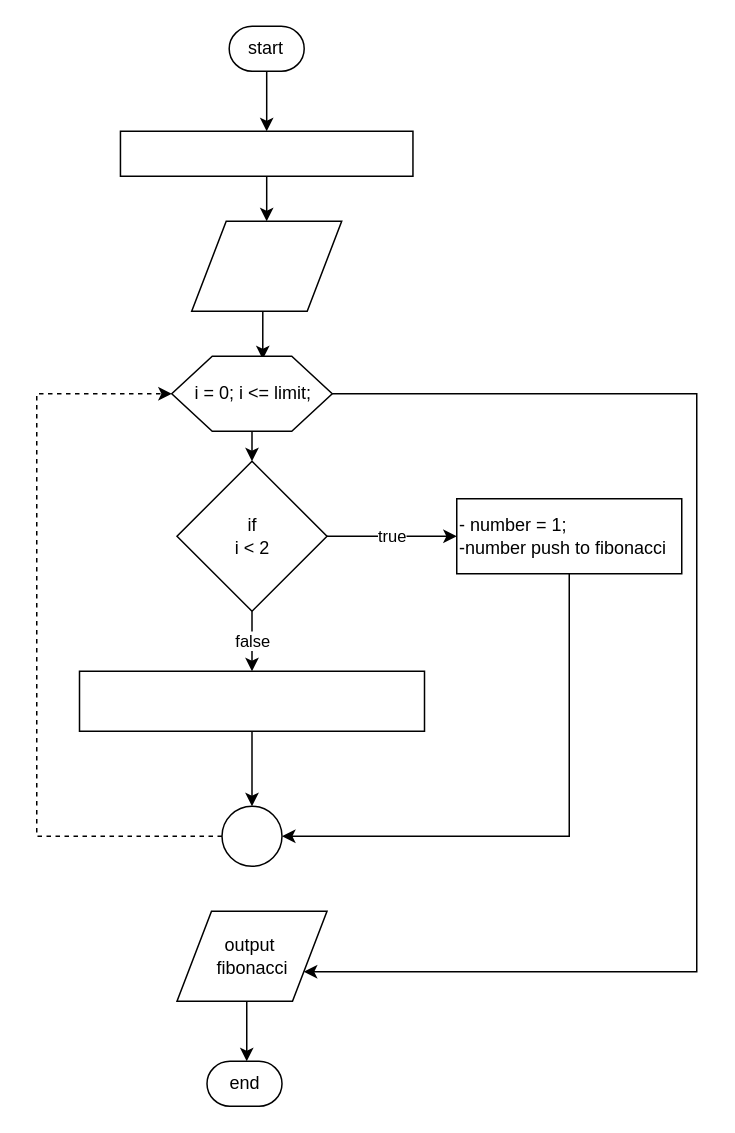
This 735x1133 diagram has some shape labels left out. Each missing label, with the centre of its shape:
-number = fibonacci[i - 1] + fibonacci[i - 2] -number push to fobinacci: pixel 251 700
input limit: pixel 266 265
limit,i,number, fibonacci[]: pixel 266 153
